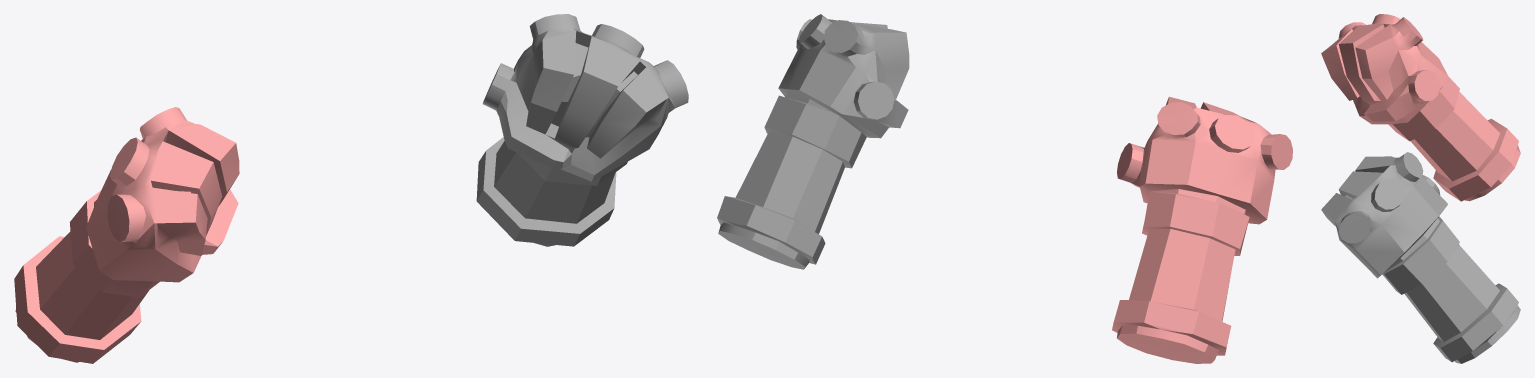
The model's file is AnimTesting.fbx.
3 views of the same model, side by side, from view 1: azimuth 30°, elevation 25°; view 2: azimuth 150°, elevation 25°; view 3: azimuth 270°, elevation 25° (orthographic). The views are drawn at different scales.
Visible parts, largest first — view 1: L_Fisto, R_Fisto; view 2: R_Fisto, L_Fisto; view 3: L_Fisto, R_Fisto.
Part boxes in pixels (box(x1,y1,x2,y2)): L_Fisto: box(476, 14, 688, 246); R_Fisto: box(14, 107, 239, 363); R_Fisto: box(1112, 96, 1292, 363); L_Fisto: box(717, 14, 909, 269); L_Fisto: box(1321, 152, 1520, 363); R_Fisto: box(1321, 14, 1520, 201).
Size of the model in its own units: 145 by 62.32 by 59.43.
